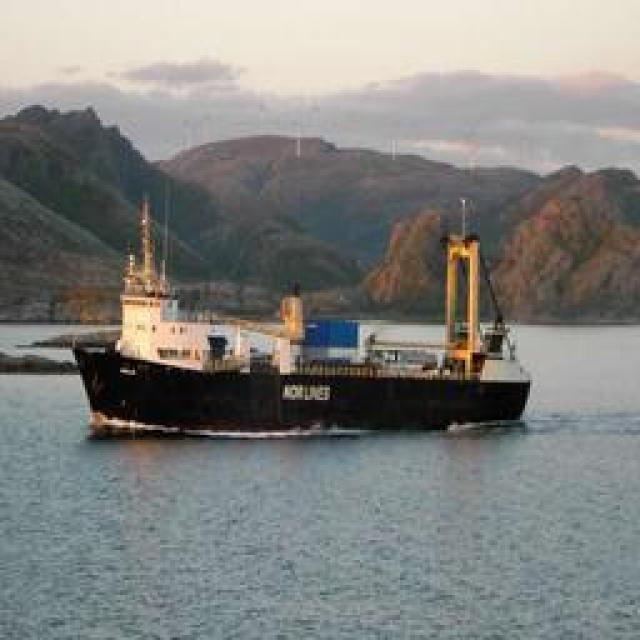CIV_Ship: (76, 171, 536, 431)
